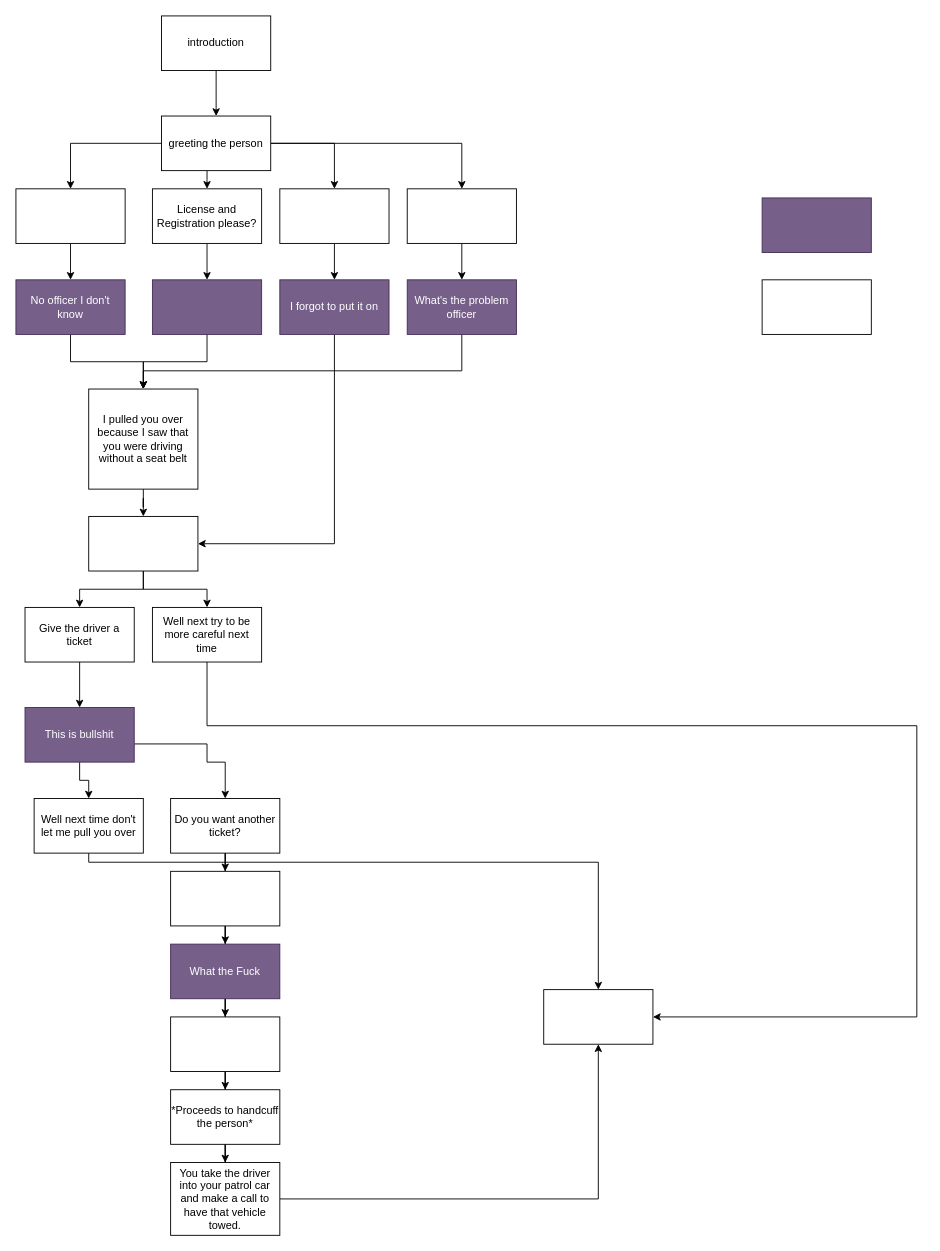
The diagram is 940 pixels wide and 1251 high, and some of its shapes have lost their labels. The centre of each missing label's shape, as x and y in pixels:
*Gives them another ticket for contempt*: pixel 225 898
End: pixel 598 1016
Excuse me sir do you know why I pulled you over?: pixel 70 215
Get out of the vehicle: pixel 225 1044
Step out of the Vehicle: pixel 461 215
Wait here: pixel 143 543
What for oficer: pixel 207 306
Why aren't you wearing a seat belt?: pixel 334 215
